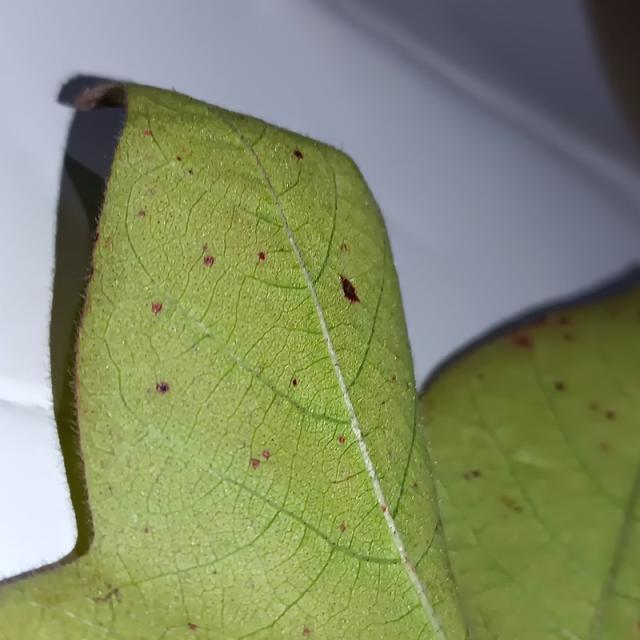Bacterial_Blight: (327, 271, 366, 308), (202, 388, 247, 420), (149, 293, 180, 323), (93, 84, 128, 108), (253, 247, 297, 266), (586, 399, 618, 424), (147, 370, 173, 398), (102, 591, 119, 629), (192, 243, 213, 273), (249, 449, 271, 470), (331, 471, 361, 485), (500, 494, 522, 513), (515, 335, 532, 349), (73, 365, 80, 395), (463, 469, 481, 480), (150, 302, 163, 316), (113, 589, 123, 604), (249, 458, 260, 470), (558, 315, 571, 325), (407, 562, 417, 574), (290, 375, 299, 388), (435, 519, 443, 533), (302, 622, 312, 633), (554, 381, 565, 391), (293, 150, 304, 160), (600, 442, 610, 452), (104, 237, 113, 248), (87, 266, 94, 280), (340, 243, 349, 253), (589, 402, 599, 411), (257, 252, 266, 261), (187, 621, 197, 629), (100, 459, 108, 469), (262, 450, 270, 460), (246, 579, 254, 589), (92, 232, 99, 243), (138, 209, 145, 218), (143, 130, 151, 137), (257, 365, 263, 374), (202, 243, 208, 251), (413, 481, 419, 489), (381, 505, 387, 513), (144, 526, 150, 534), (391, 375, 397, 383), (402, 555, 408, 563), (176, 156, 182, 162), (188, 169, 193, 175), (638, 621, 640, 632)
